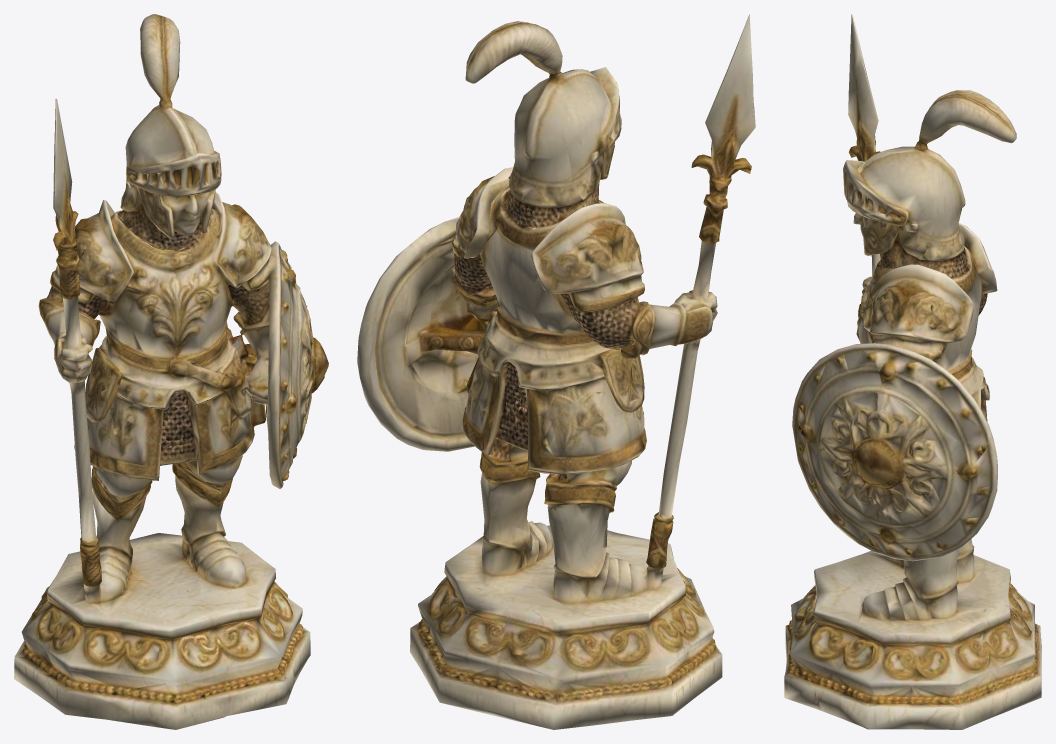
File: pawn.glb
3 renders of one model, left to right at view 1: azimuth 30°, elevation 25°; view 2: azimuth 150°, elevation 25°; view 3: azimuth 270°, elevation 25°, orthographic. The views are drawn at different scales.
Bounding box in the file's own units: 0.9624 × 1.9 × 0.7462.
Materials: 1 (1 with a texture image).
